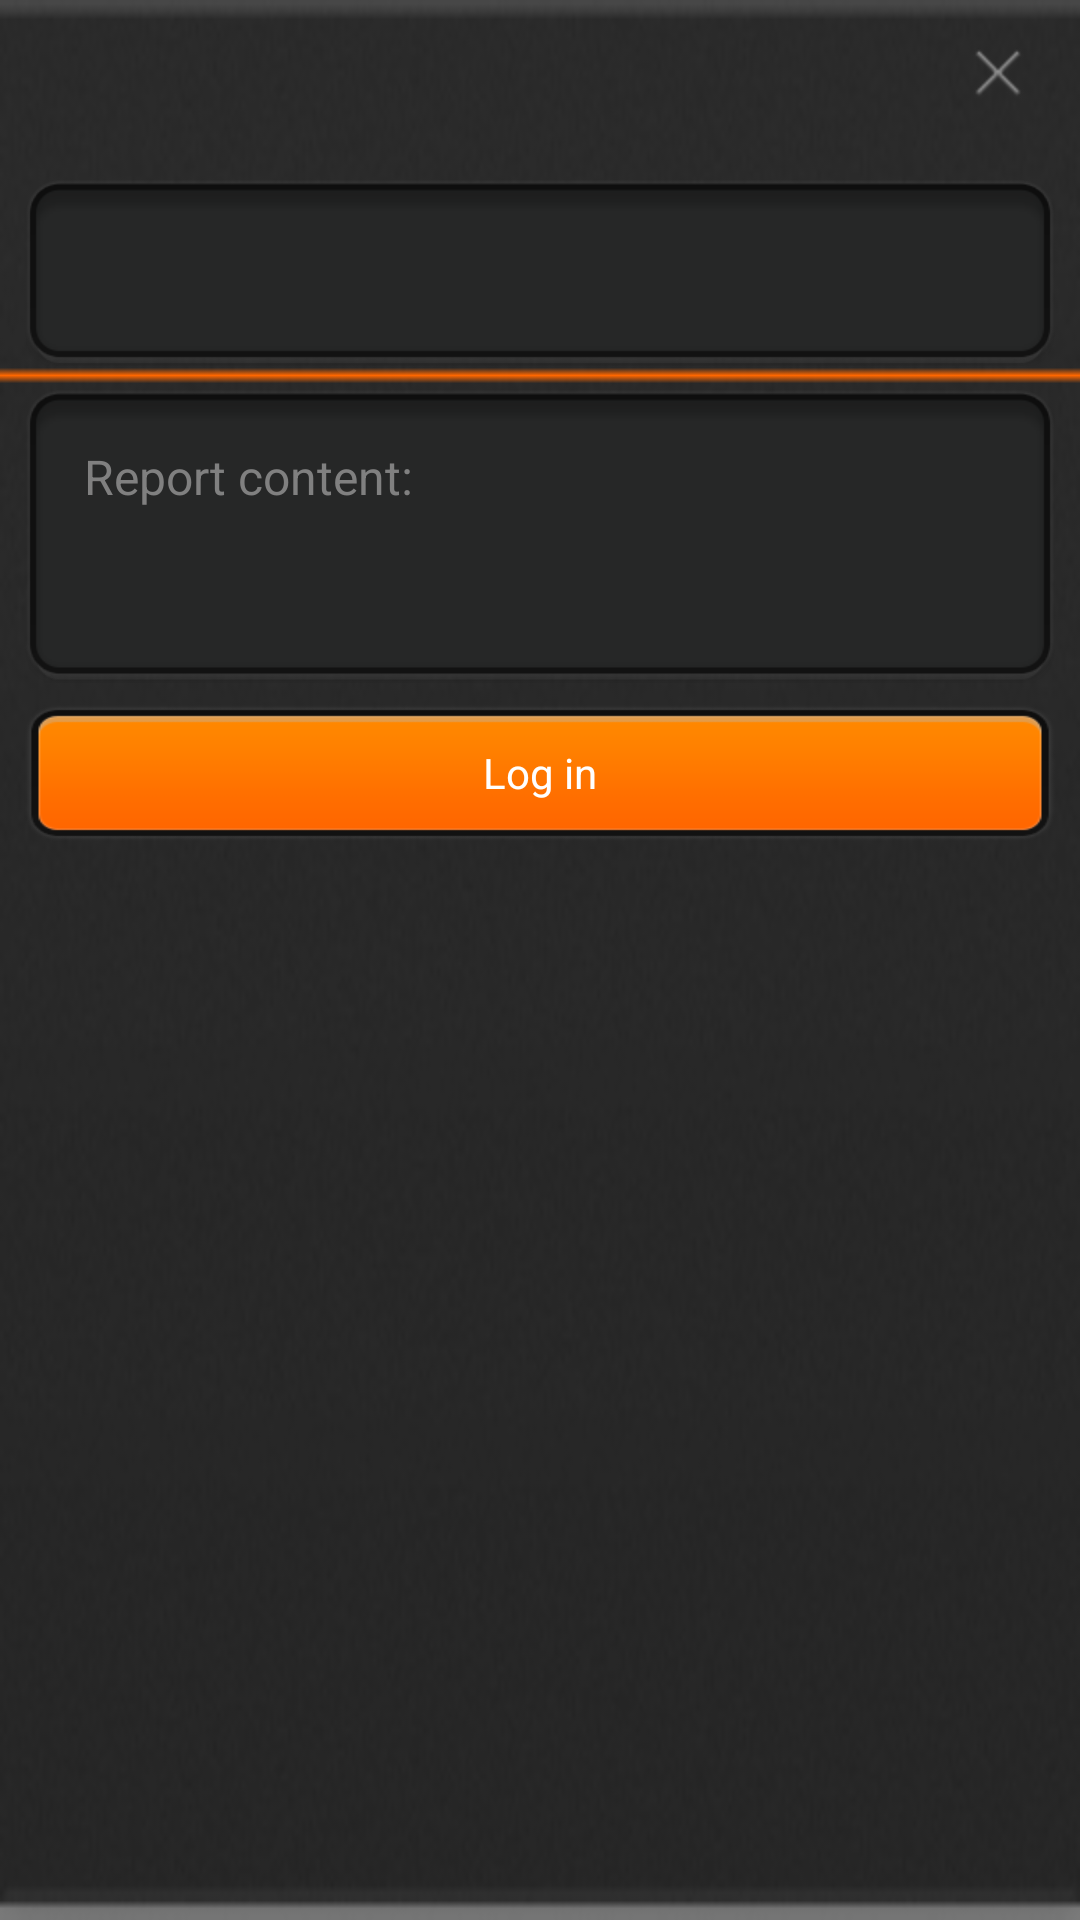

Screen size 1080w x 1920h. Icon name, then its center in pixels as (x=x, y=y):
close: (x=998, y=72)
